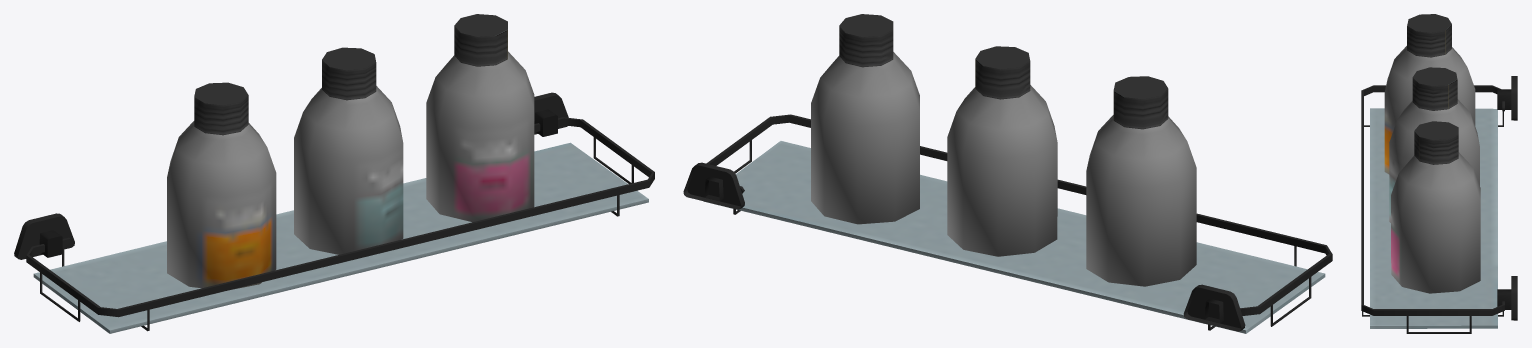
The model's file is BathProps_1.fbx.
3 renders of one model, left to right at view 1: azimuth 30°, elevation 25°; view 2: azimuth 150°, elevation 25°; view 3: azimuth 270°, elevation 25°, orthographic. The views are drawn at different scales.
Visible parts, largest first — view 1: BathProps_1; view 2: BathProps_1; view 3: BathProps_1.
Part boxes in pixels (x1,y1,x2,y2): BathProps_1: (14,14,654,333); BathProps_1: (683,14,1332,333); BathProps_1: (1361,14,1517,333).
Size of the model in its own units: 0.5097 by 0.158 by 0.15.
